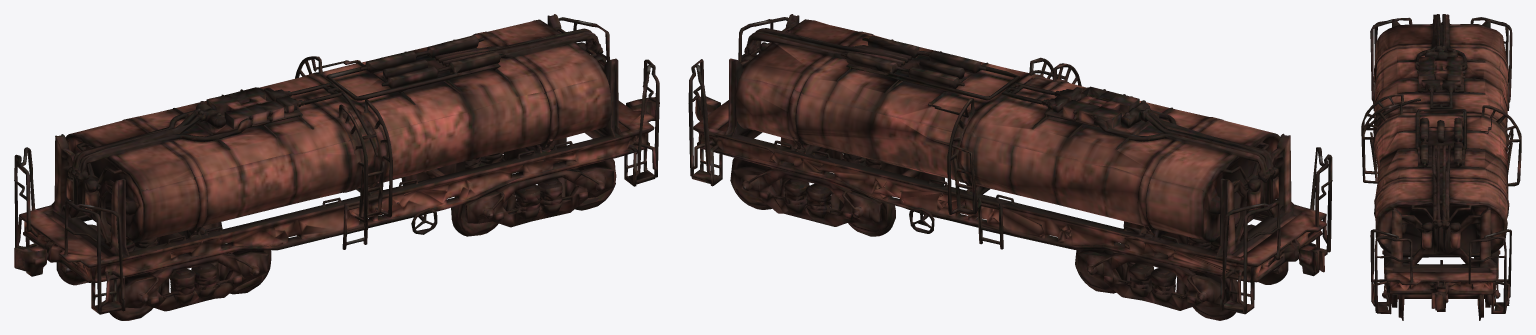
The model's file is rail_tanker.glb.
3 views of the same model, side by side, from view 1: azimuth 30°, elevation 25°; view 2: azimuth 150°, elevation 25°; view 3: azimuth 270°, elevation 25° (orthographic). The views are drawn at different scales.
Visible parts, largest first — view 1: rail_tanker; view 2: rail_tanker; view 3: rail_tanker.
Part boxes in pixels (x1,y1,x2,y2): rail_tanker: [14, 14, 659, 320]; rail_tanker: [688, 14, 1332, 320]; rail_tanker: [1361, 14, 1521, 320].
Bounding box in the file's own units: 190 × 48.63 × 53.02.
1 material, 1 textured.
